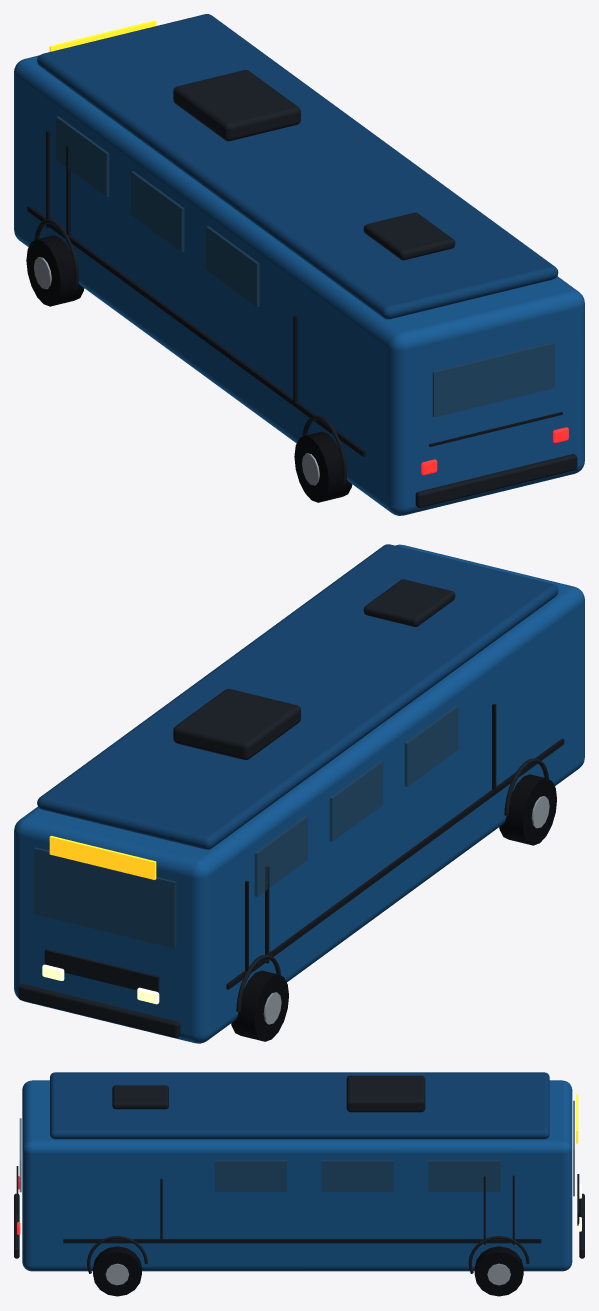
Rendered from bus_far.glb.
The picture shows the model from 3 angles, top to bottom: view 1: azimuth 30°, elevation 25°; view 2: azimuth 150°, elevation 25°; view 3: azimuth 270°, elevation 25°; orthographic projection. The views are drawn at different scales.
Visible parts, largest first — view 1: bus_far_rounded_long_transit_bus_body_shell, bus_far_slightly_raised_roof_panel_with_hatches, bus_far_roof_hvac_equipment_box, bus_far_rear_window_glass, bus_far_rear_bumper_body_panel, bus_far_rear_roof_service_hatch_panel, bus_far_rear_left_wheel_tire, bus_far_front_left_wheel_tire, bus_far_left_lower_body_belt_panel_break, bus_far_left_side_window_glass_2, bus_far_left_side_window_glass_3, bus_far_left_side_window_glass_1 (+1 smaller); view 2: bus_far_rounded_long_transit_bus_body_shell, bus_far_slightly_raised_roof_panel_with_hatches, bus_far_front_driver_windshield_glass, bus_far_roof_hvac_equipment_box, bus_far_front_bumper_body_panel, bus_far_rear_roof_service_hatch_panel, bus_far_rear_left_wheel_tire, bus_far_front_left_wheel_tire, bus_far_left_side_window_glass_2, bus_far_left_side_window_glass_3, bus_far_left_lower_body_belt_panel_break, bus_far_left_side_window_glass_1 (+2 smaller); view 3: bus_far_rounded_long_transit_bus_body_shell, bus_far_slightly_raised_roof_panel_with_hatches, bus_far_roof_hvac_equipment_box, bus_far_right_side_window_glass_2, bus_far_right_side_window_glass_3, bus_far_right_side_window_glass_1, bus_far_right_lower_body_belt_panel_break, bus_far_front_right_wheel_tire, bus_far_rear_right_wheel_tire, bus_far_rear_roof_service_hatch_panel, bus_far_front_right_wheel_outer_hub, bus_far_rear_right_wheel_outer_hub (+4 smaller).
Part boxes in pixels (left/top/right/bottom): bus_far_rounded_long_transit_bus_body_shell: left=14, top=55, right=584, bottom=515; bus_far_slightly_raised_roof_panel_with_hatches: left=37, top=14, right=558, bottom=319; bus_far_roof_hvac_equipment_box: left=173, top=70, right=300, bottom=141; bus_far_rear_window_glass: left=432, top=342, right=554, bottom=417; bus_far_rear_bumper_body_panel: left=415, top=454, right=577, bottom=507; bus_far_rear_roof_service_hatch_panel: left=363, top=212, right=455, bottom=260; bus_far_rear_left_wheel_tire: left=294, top=431, right=352, bottom=502; bus_far_front_left_wheel_tire: left=26, top=235, right=84, bottom=306; bus_far_left_lower_body_belt_panel_break: left=27, top=206, right=365, bottom=456; bus_far_left_side_window_glass_2: left=131, top=171, right=184, bottom=251; bus_far_left_side_window_glass_3: left=206, top=226, right=259, bottom=306; bus_far_left_side_window_glass_1: left=56, top=116, right=109, bottom=196; bus_far_rounded_long_transit_bus_body_shell: left=14, top=544, right=584, bottom=1043; bus_far_slightly_raised_roof_panel_with_hatches: left=37, top=544, right=558, bottom=849; bus_far_front_driver_windshield_glass: left=34, top=847, right=176, bottom=948; bus_far_roof_hvac_equipment_box: left=173, top=689, right=300, bottom=759; bus_far_front_bumper_body_panel: left=18, top=984, right=180, bottom=1037; bus_far_rear_roof_service_hatch_panel: left=363, top=579, right=455, bottom=626; bus_far_rear_left_wheel_tire: left=499, top=774, right=556, bottom=845; bus_far_front_left_wheel_tire: left=231, top=970, right=288, bottom=1041; bus_far_left_side_window_glass_2: left=329, top=761, right=383, bottom=841; bus_far_left_side_window_glass_3: left=404, top=706, right=458, bottom=786; bus_far_left_lower_body_belt_panel_break: left=226, top=739, right=564, bottom=989; bus_far_left_side_window_glass_1: left=254, top=816, right=307, bottom=896; bus_far_rounded_long_transit_bus_body_shell: left=22, top=1080, right=572, bottom=1271; bus_far_slightly_raised_roof_panel_with_hatches: left=50, top=1072, right=549, bottom=1139; bus_far_roof_hvac_equipment_box: left=346, top=1075, right=425, bottom=1112; bus_far_right_side_window_glass_2: left=321, top=1160, right=393, bottom=1191; bus_far_right_side_window_glass_3: left=214, top=1160, right=286, bottom=1191; bus_far_right_side_window_glass_1: left=428, top=1160, right=500, bottom=1191; bus_far_right_lower_body_belt_panel_break: left=63, top=1239, right=541, bottom=1243; bus_far_front_right_wheel_tire: left=474, top=1246, right=523, bottom=1296; bus_far_rear_right_wheel_tire: left=93, top=1246, right=141, bottom=1296; bus_far_rear_roof_service_hatch_panel: left=112, top=1085, right=168, bottom=1109; bus_far_front_right_wheel_outer_hub: left=487, top=1263, right=510, bottom=1285; bus_far_rear_right_wheel_outer_hub: left=105, top=1263, right=129, bottom=1285.
Bounding box in the file's own units: 3.02 × 2.97 × 9.08.
